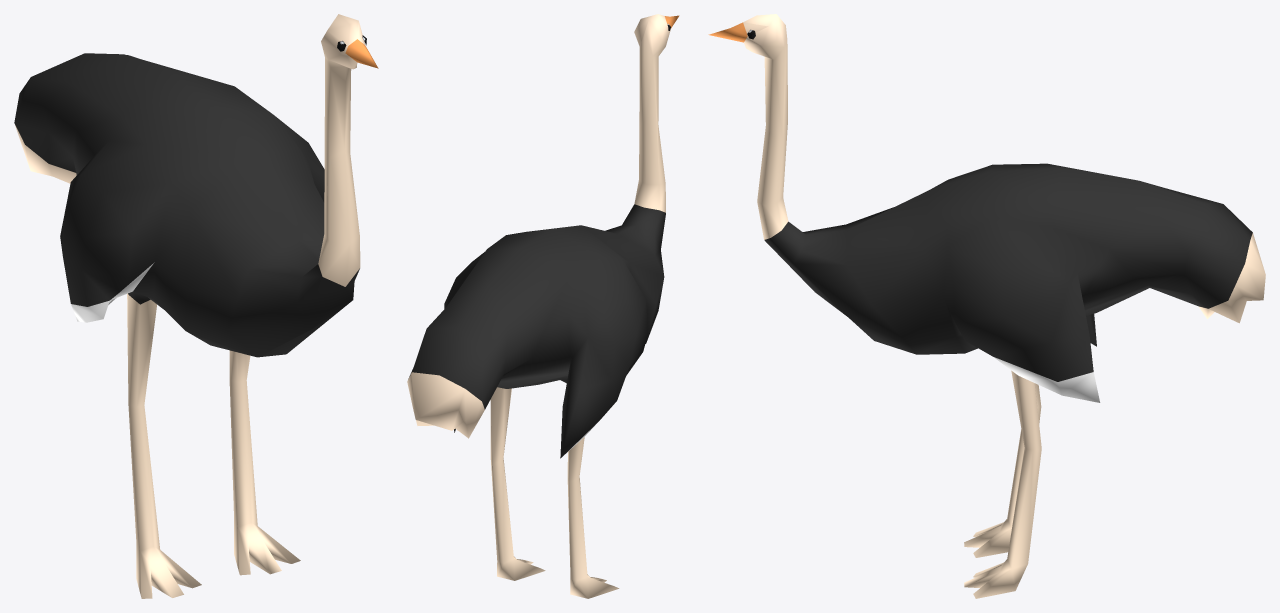
3 renders of one model, left to right at view 1: azimuth 30°, elevation 25°; view 2: azimuth 150°, elevation 25°; view 3: azimuth 270°, elevation 25°, orthographic. The views are drawn at different scales.
Parts seen in each view (by area): view 1: Ostrich; view 2: Ostrich; view 3: Ostrich.
Boxes of the visible parts, <box> form: Ostrich: <box>14,14,378,598</box>; Ostrich: <box>407,14,679,598</box>; Ostrich: <box>708,14,1265,598</box>.
Size of what is drawn, in the model's own units: 0.842 by 2.24 by 2.05.
1 material, 1 textured.
